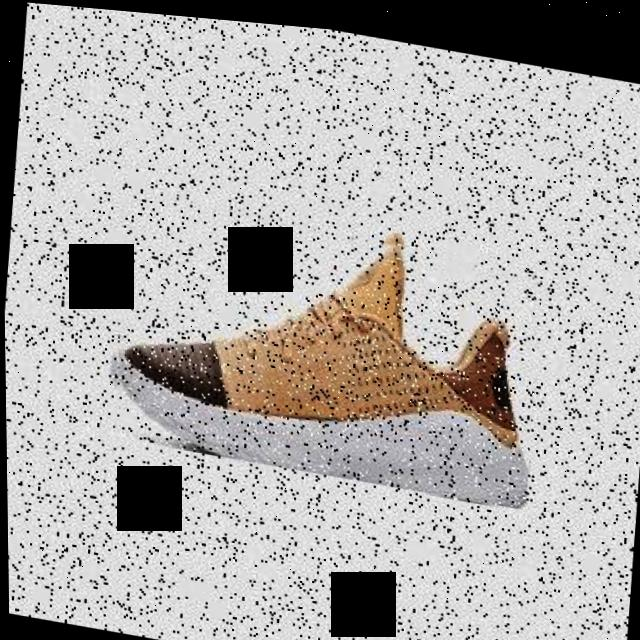shoe: (100, 179, 546, 502)
